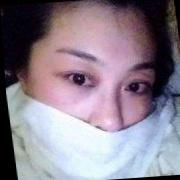WRONG: (20, 16, 167, 180)
